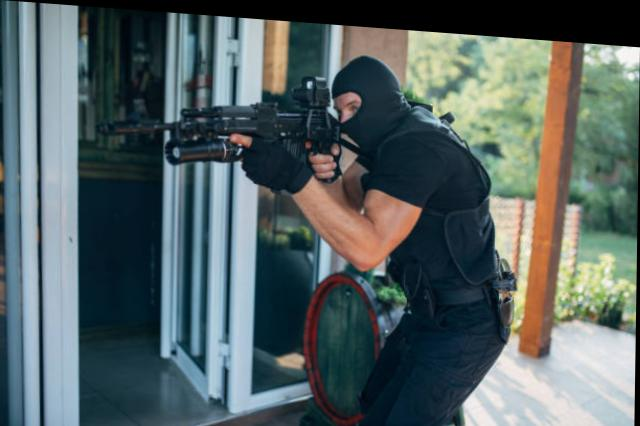other: (302, 46, 513, 424)
